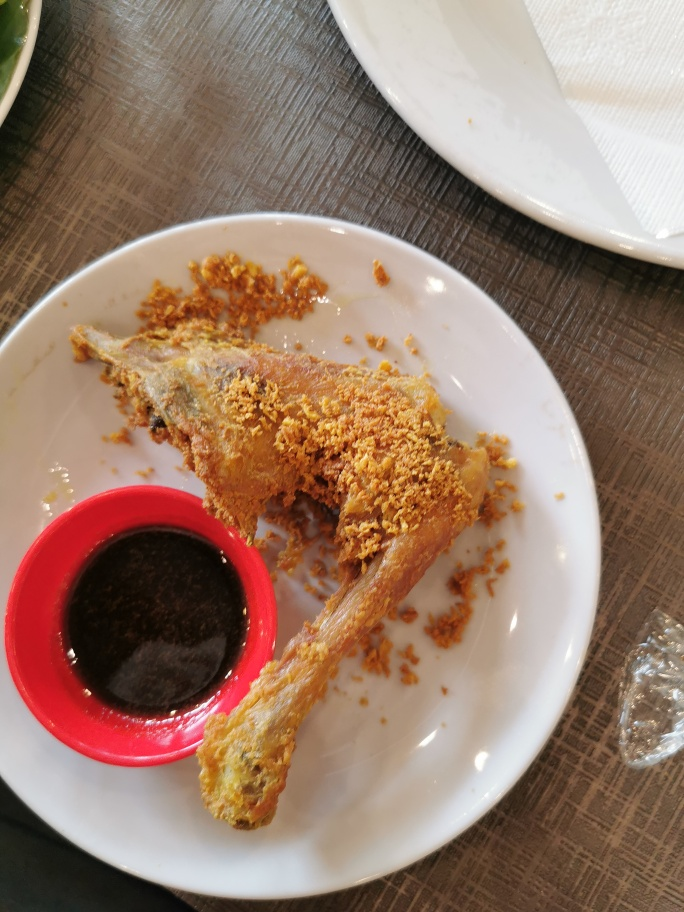ayam goreng: (60, 305, 497, 831)
kecap: (28, 486, 278, 768)
